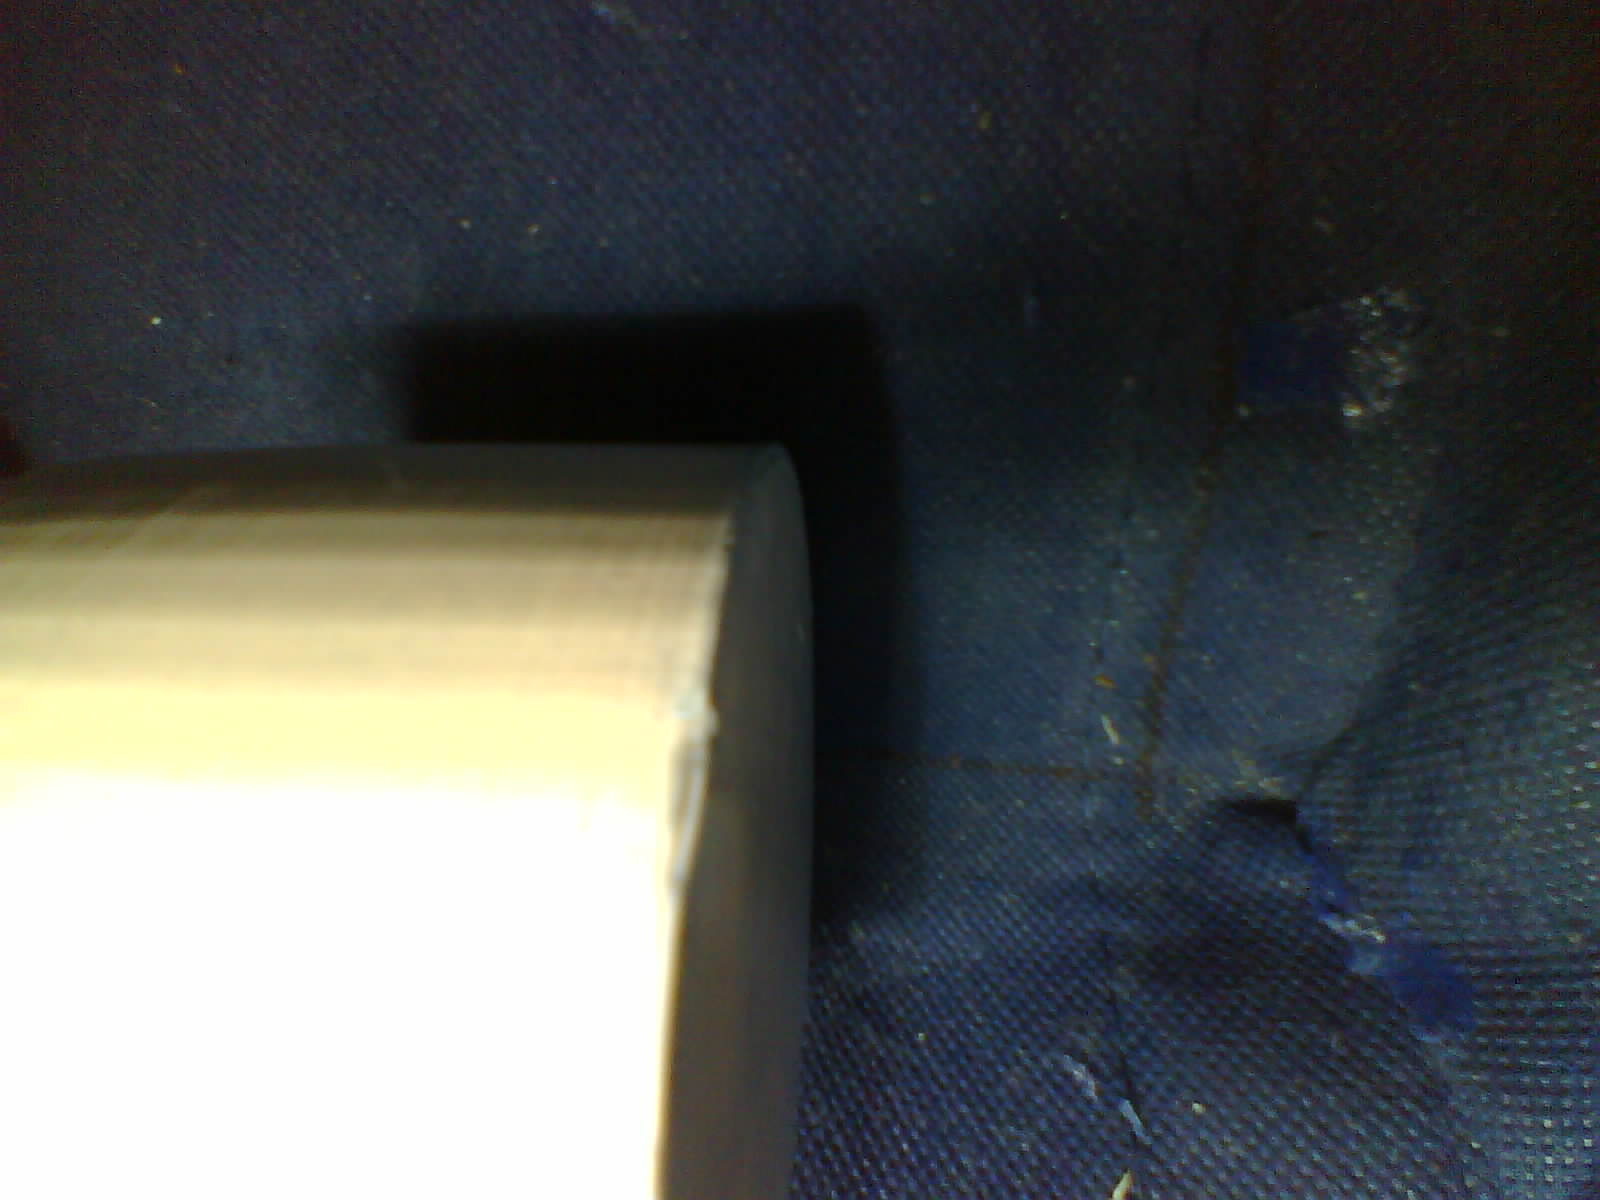cylinder-hard: (0, 417, 842, 1200)
